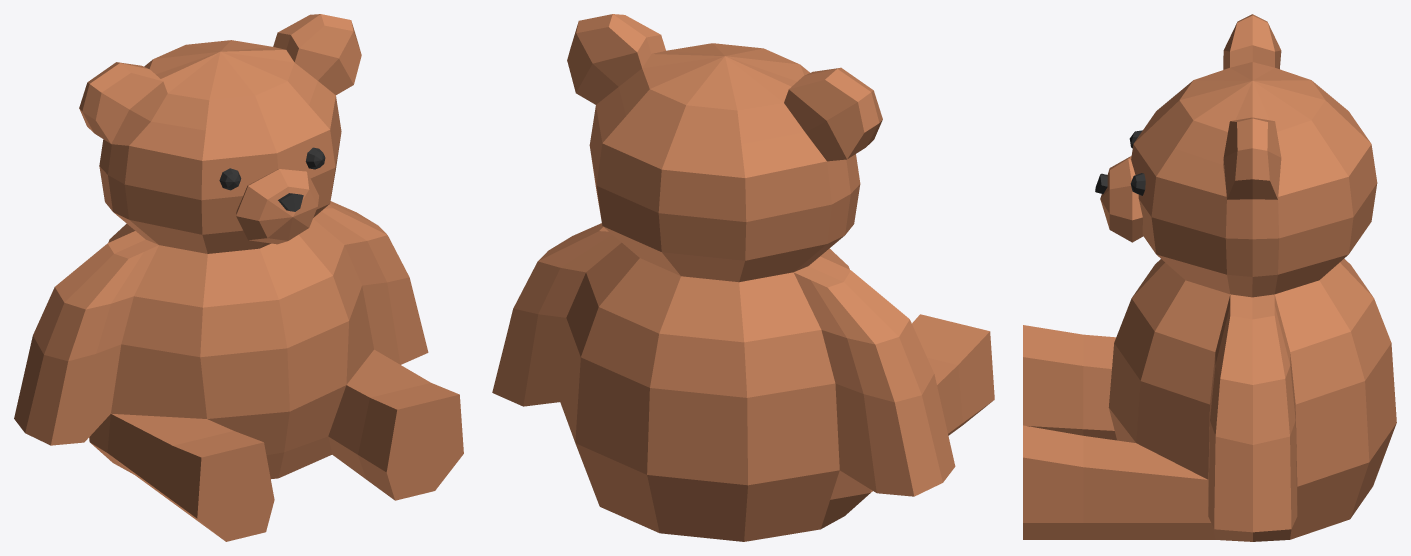
Rendered from teddy bear.fbx.
3 renders of one model, left to right at view 1: azimuth 30°, elevation 25°; view 2: azimuth 150°, elevation 25°; view 3: azimuth 270°, elevation 25°, orthographic. The views are drawn at different scales.
Visible parts, largest first — view 1: teddy bear; view 2: teddy bear; view 3: teddy bear.
Part boxes in pixels (<box>): teddy bear: <box>14,14,463,541</box>; teddy bear: <box>492,14,994,541</box>; teddy bear: <box>1023,14,1396,541</box>.
Size of the model in its own units: 1.3 by 1.02 by 1.26.
Materials: 1 (1 with a texture image).
